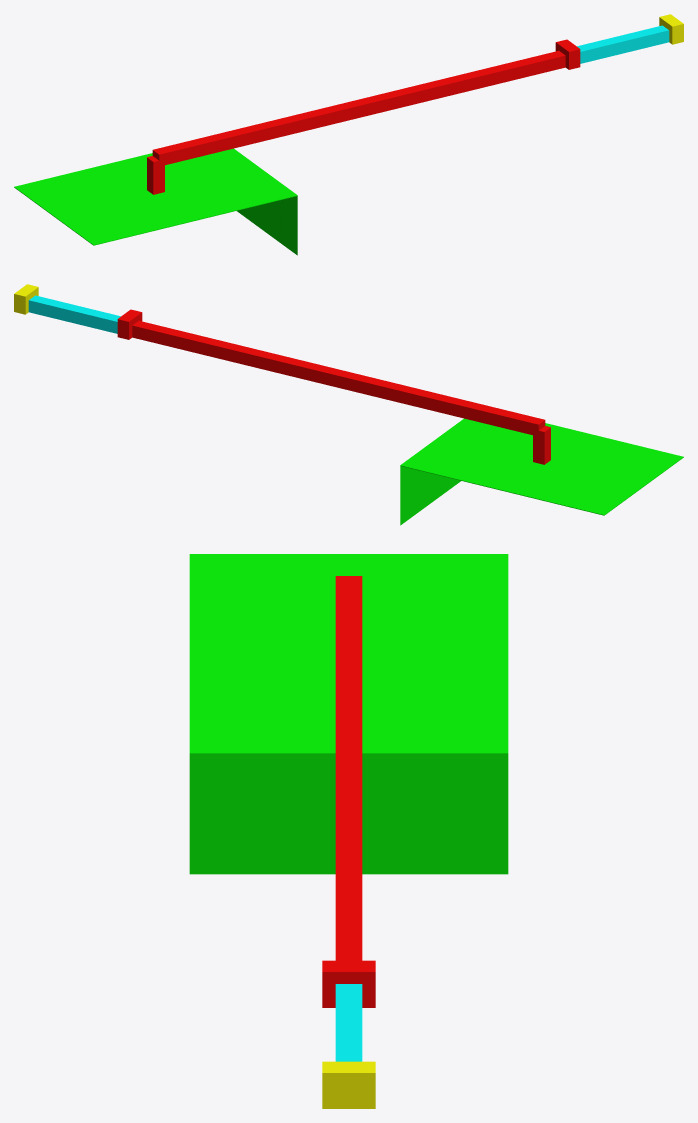
The model's file is rsx_arm.dae.
3 views of the same model, one above another, from view 1: azimuth 30°, elevation 25°; view 2: azimuth 150°, elevation 25°; view 3: azimuth 270°, elevation 25° (orthographic). The views are drawn at different scales.
Parts seen in each view (by area): view 1: link0_base, link2_shoulder, link3_elbow, link5_wrist2, link1_waist, link4_wrist1, link6_wrist3; view 2: link0_base, link2_shoulder, link3_elbow, link5_wrist2, link1_waist, link4_wrist1, link6_wrist3; view 3: link0_base, link2_shoulder, link3_elbow, link6_wrist3, link5_wrist2, link4_wrist1.
Part boxes in pixels (box(x1,y1,x2,y2)): link0_base: box(14, 148, 297, 255); link2_shoulder: box(152, 99, 366, 166); link3_elbow: box(360, 50, 565, 115); link5_wrist2: box(577, 25, 669, 63); link1_waist: box(147, 156, 164, 194); link4_wrist1: box(555, 39, 580, 69); link6_wrist3: box(659, 14, 683, 44); link0_base: box(400, 418, 683, 525); link2_shoulder: box(331, 369, 545, 435); link3_elbow: box(132, 320, 337, 385); link5_wrist2: box(28, 295, 120, 333); link1_waist: box(533, 426, 550, 464); link4_wrist1: box(117, 309, 142, 339); link6_wrist3: box(14, 284, 38, 314); link0_base: box(189, 554, 508, 874); link2_shoulder: box(335, 576, 362, 777); link3_elbow: box(335, 778, 362, 960); link6_wrist3: box(322, 1061, 375, 1108); link5_wrist2: box(335, 984, 362, 1061); link4_wrist1: box(322, 960, 375, 1007).
Size of the model in its own units: 108 by 24 by 17.5.
